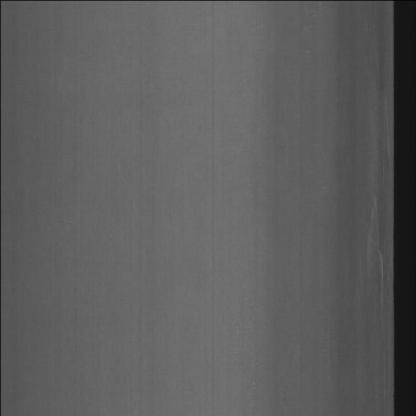silk_spot: (356, 148, 390, 323)
